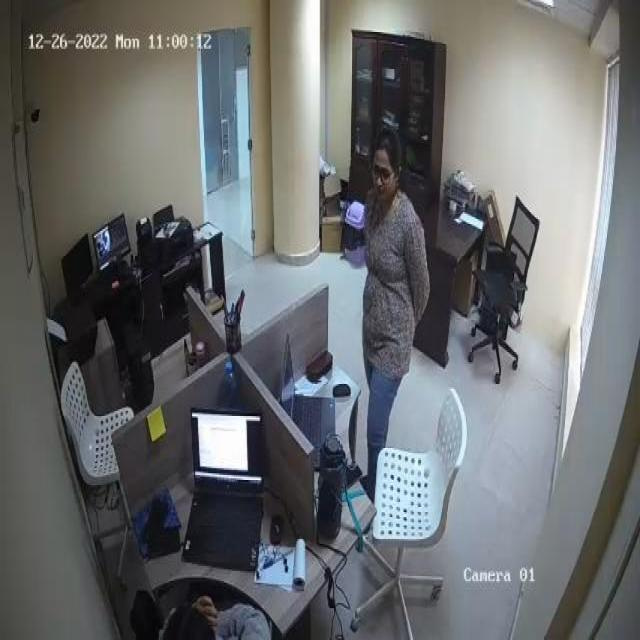bare_hand: (186, 584, 224, 633)
